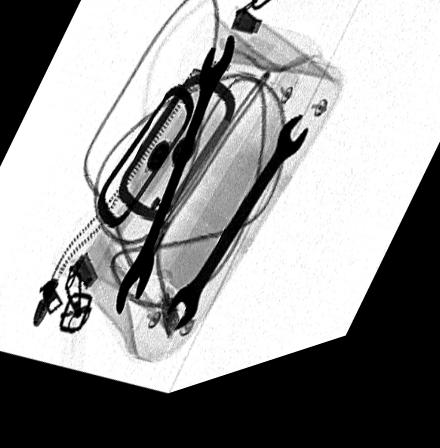Wrench: (113, 46, 236, 324), (159, 134, 305, 341)
